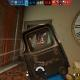Character: (40, 38, 44, 42)
Head: (41, 38, 43, 39)
